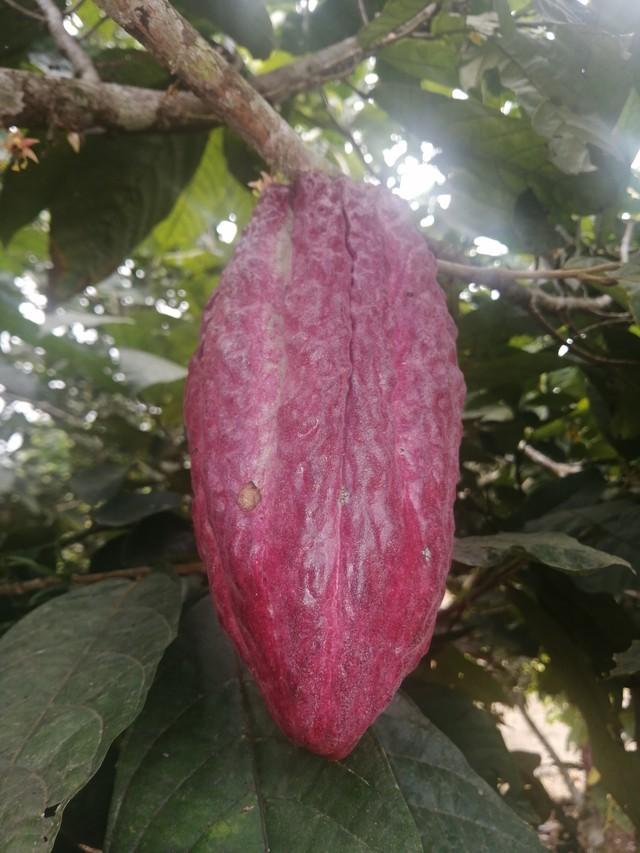Health: (171, 161, 480, 770)
